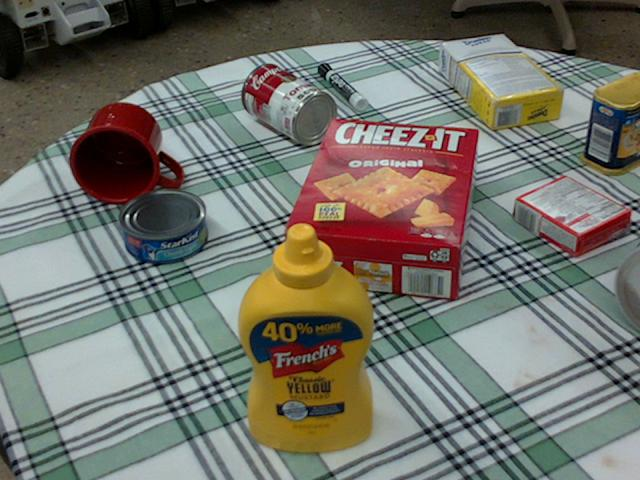cracker_box: (283, 118, 483, 299)
gelatin_box: (513, 175, 628, 254)
large_marker: (317, 62, 366, 109)
master_chef_can: (617, 244, 639, 329)
mug: (69, 102, 181, 203)
mustard_bottle: (238, 222, 374, 451)
potted_meat_can: (579, 72, 639, 175)
sugar_box: (439, 35, 565, 129)
tomato_soup_can: (241, 62, 336, 143)
tuna_fish_can: (116, 188, 206, 262)
